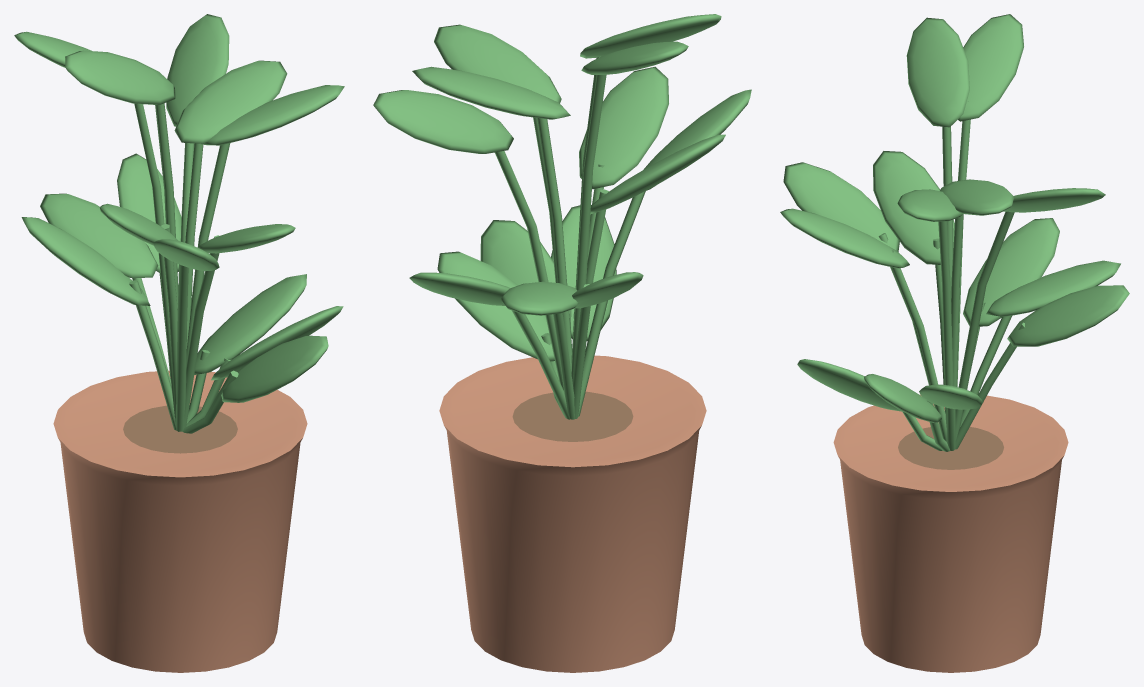
The model's file is Plant.fbx.
3 renders of one model, left to right at view 1: azimuth 30°, elevation 25°; view 2: azimuth 150°, elevation 25°; view 3: azimuth 270°, elevation 25°, orthographic. The views are drawn at different scales.
Visible parts, largest first — view 1: Plant; view 2: Plant; view 3: Plant.
Part boxes in pixels (box(x1,y1,x2,y2)): Plant: box(14, 14, 344, 672); Plant: box(373, 14, 751, 672); Plant: box(780, 14, 1129, 672).
Bounding box in the file's own units: 0.5351 × 1.11 × 0.6254.
